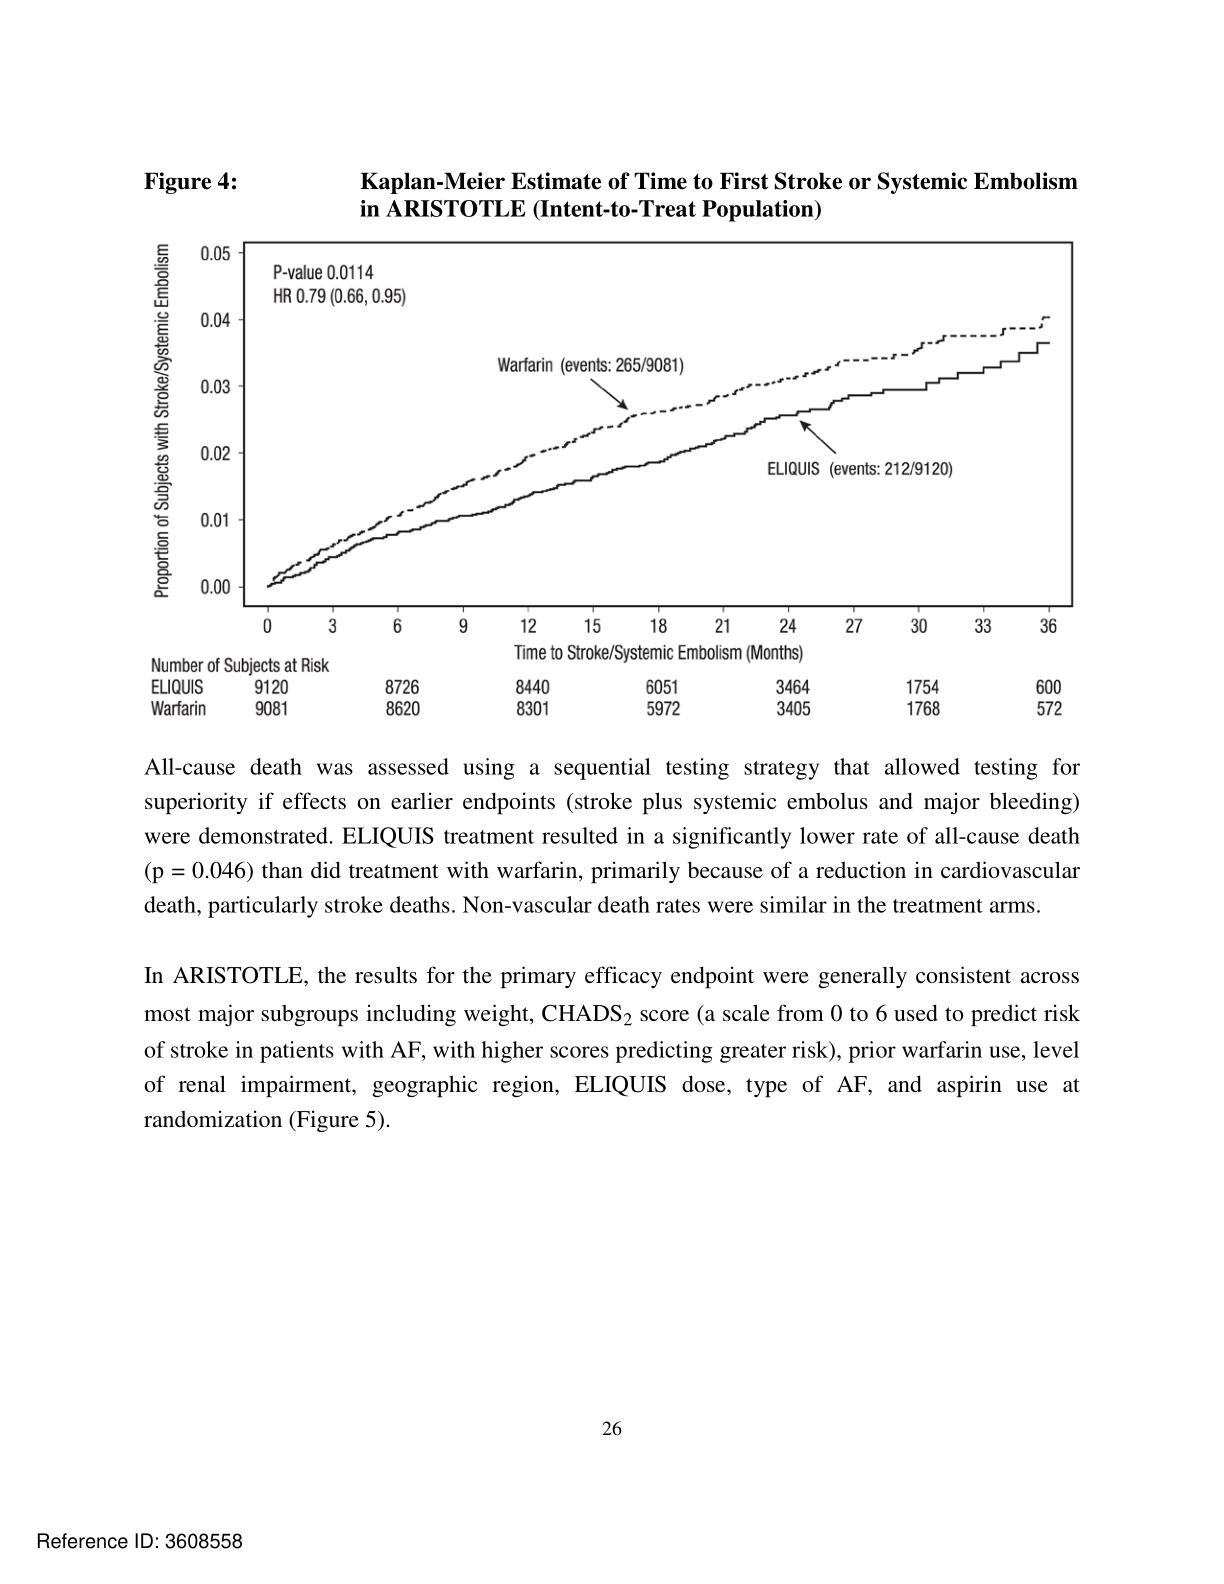nolines: (149, 675, 1065, 717)
